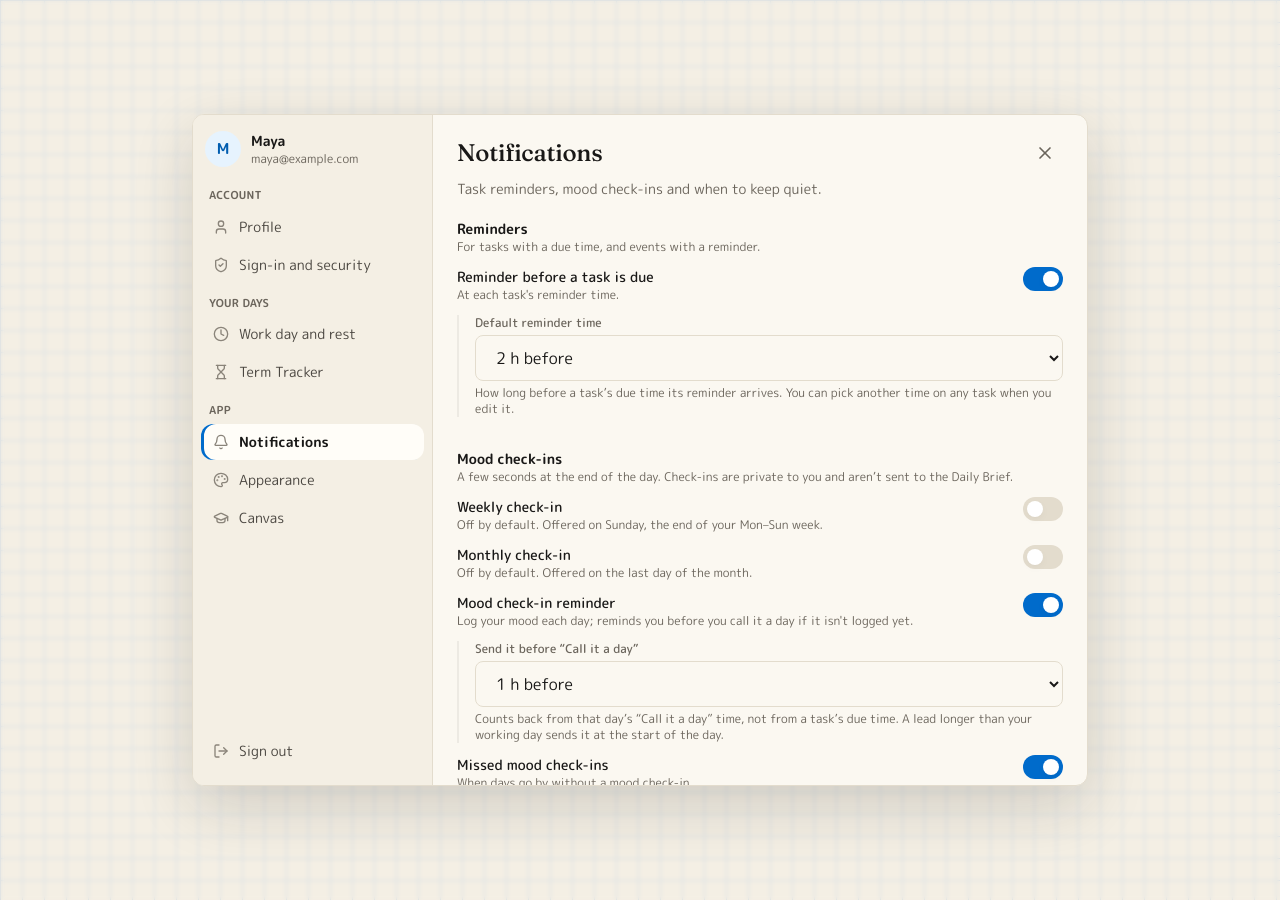
SettingsModal notifications page › groups reminders, mood check-ins and quiet hours on one page, with no other alerts or mood nudge settings
Expected: the switch in the row of "Mood check-in reminder" is shown, 1023,593 -> 1063,617
Expected: the element that starts with "Mood check-ins" shows "Log your mood each day; reminds you before you call it a day if it isn't logged yet.", 457,612 -> 914,629
Step 1. Click the switch in the row of "Weekly check-in" → (1043, 509), box 1023,497 -> 1063,521
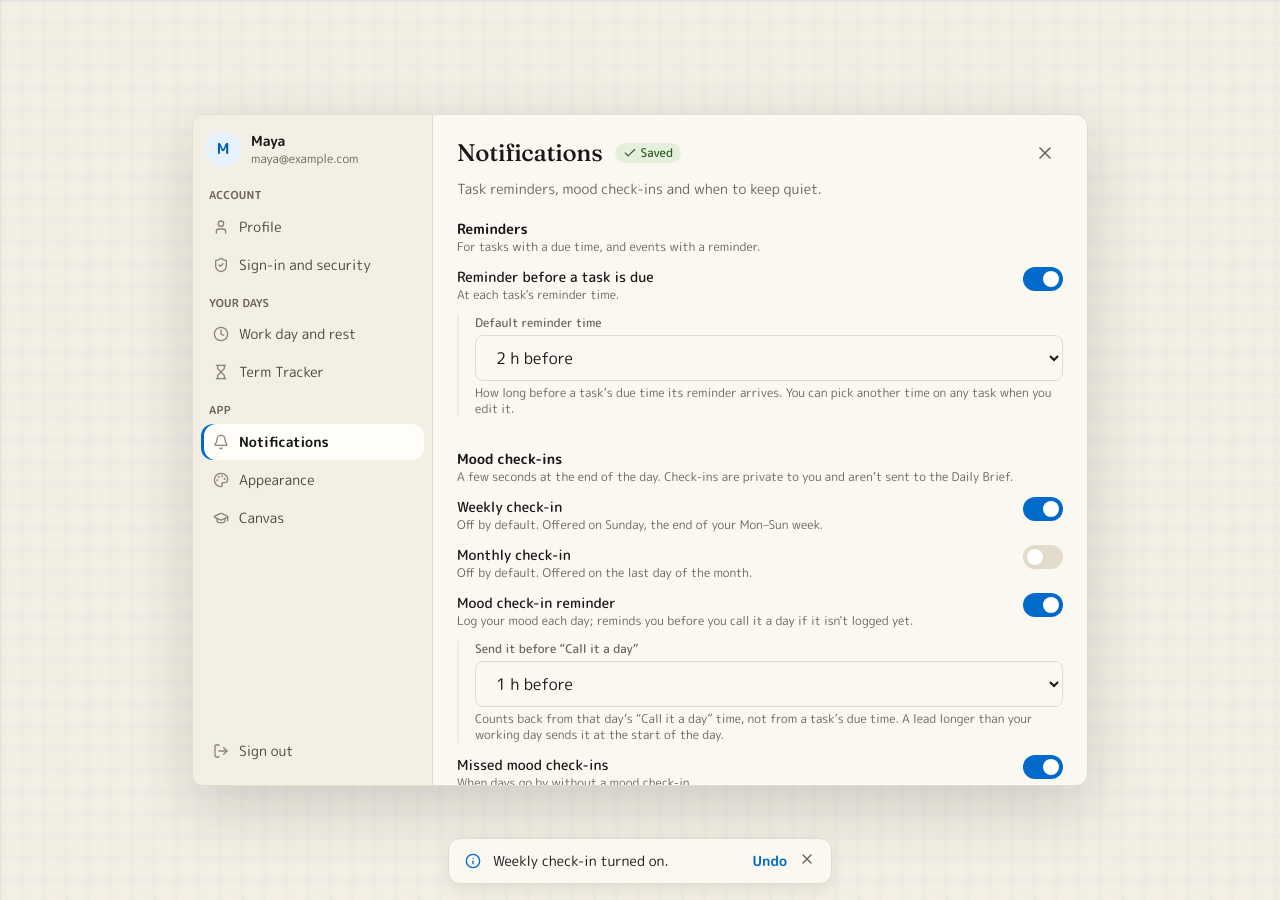
Expected: the message "Saved" is shown, 614,141 -> 681,165
